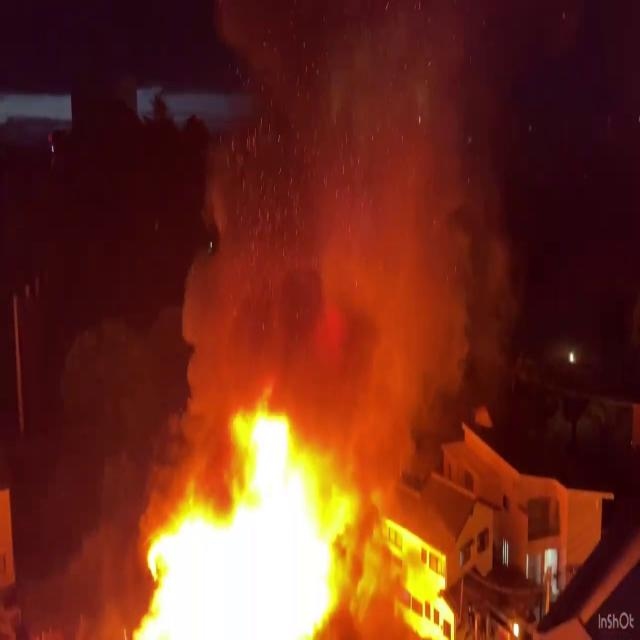Fire: (120, 393, 401, 640)
Smoke: (165, 0, 553, 425)
